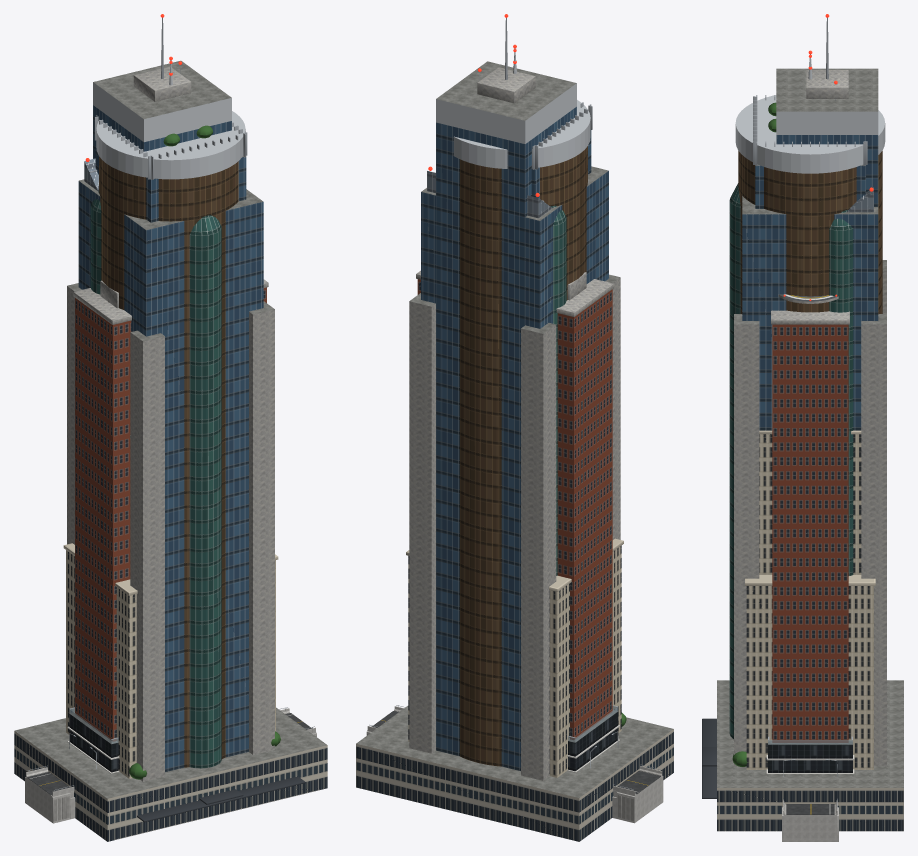
File: lw-scenery.glb
The picture shows the model from 3 angles, left to right: view 1: azimuth 30°, elevation 25°; view 2: azimuth 150°, elevation 25°; view 3: azimuth 270°, elevation 25°; orthographic projection.
Visible parts, largest first — view 1: Glass_Office_Tower, Concrete_Tower, Podium_Tower, Hotel_Tower, Triangle_Tower, Round_Tower, Stepped_Stone_Tower, Highway_Overpass, Cantilever_Office; view 2: Podium_Tower, Round_Tower, Concrete_Tower, Hotel_Tower, Glass_Office_Tower, Stepped_Stone_Tower, Highway_Overpass, Triangle_Tower, Cantilever_Office, Slanted_Top_Tower; view 3: Hotel_Tower, Podium_Tower, Concrete_Tower, Round_Tower, Stepped_Stone_Tower, Glass_Office_Tower, Triangle_Tower, Cantilever_Office, Highway_Overpass, Slanted_Top_Tower.
Part boxes in pixels (x1,y1,x2,y2): Glass_Office_Tower: (78,61,263,772); Concrete_Tower: (67,283,274,781); Podium_Tower: (14,14,327,841); Hotel_Tower: (73,279,268,741); Triangle_Tower: (90,56,243,804); Round_Tower: (96,72,245,767); Stepped_Stone_Tower: (63,61,278,778); Highway_Overpass: (25,707,316,823); Cantilever_Office: (67,707,319,839); Podium_Tower: (356,14,673,841); Round_Tower: (453,61,590,766); Concrete_Tower: (409,274,620,780); Hotel_Tower: (416,270,613,739); Glass_Office_Tower: (421,68,608,328); Stepped_Stone_Tower: (406,49,623,777); Highway_Overpass: (366,705,663,823); Triangle_Tower: (513,44,566,575); Cantilever_Office: (567,705,619,772); Slanted_Top_Tower: (427,166,552,218); Hotel_Tower: (771,294,849,742); Podium_Tower: (702,14,903,831); Concrete_Tower: (734,260,886,766); Round_Tower: (735,66,885,313); Stepped_Stone_Tower: (745,55,875,769); Glass_Office_Tower: (742,80,878,430); Triangle_Tower: (702,50,853,766); Cantilever_Office: (766,736,854,773); Highway_Overpass: (782,759,838,841); Slanted_Top_Tower: (846,187,873,212).
Size of the model in its own units: 72 by 198 by 47.51.
114 materials, 57 textured.
